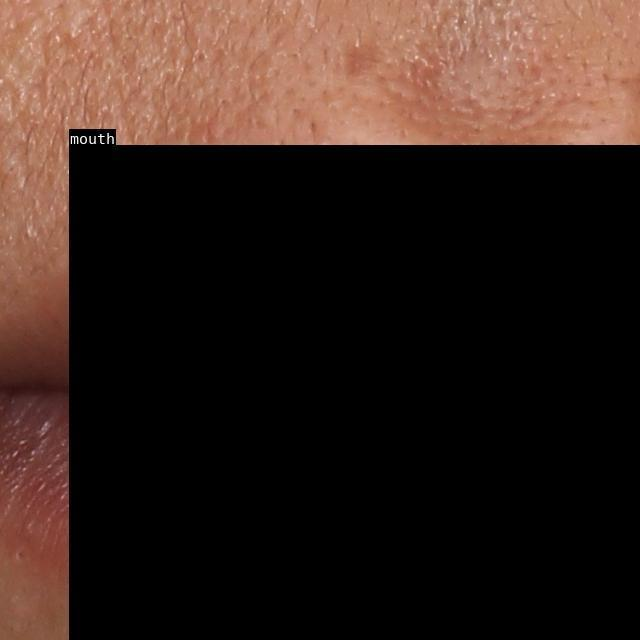atrophic_scar: (339, 40, 388, 82)
comedo: (11, 548, 27, 565)
